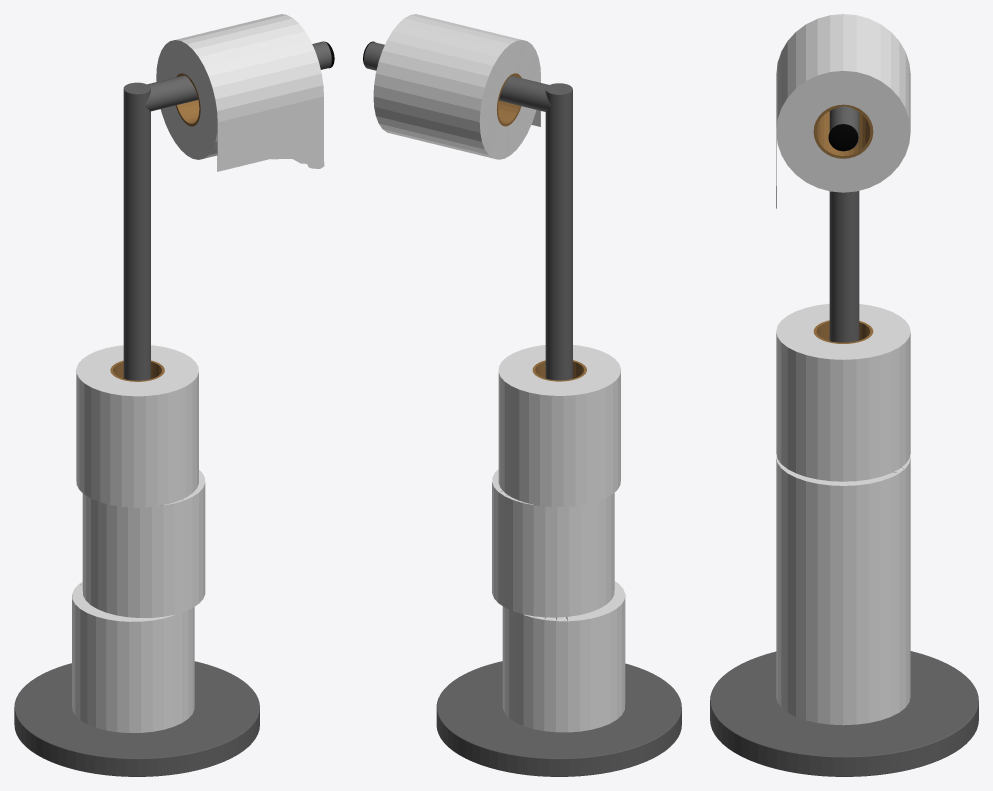
The model's file is Model_Bathroom_ToiletPaperHolder.fbx.
3 renders of one model, left to right at view 1: azimuth 30°, elevation 25°; view 2: azimuth 150°, elevation 25°; view 3: azimuth 270°, elevation 25°, orthographic. The views are drawn at different scales.
Visible parts, largest first — view 1: uploads_files_841847_toilet+paper+holder_obj; view 2: uploads_files_841847_toilet+paper+holder_obj; view 3: uploads_files_841847_toilet+paper+holder_obj.
Boxes of the visible parts, x1,y1,x2,y2 form: uploads_files_841847_toilet+paper+holder_obj: [14, 14, 334, 776]; uploads_files_841847_toilet+paper+holder_obj: [363, 14, 681, 776]; uploads_files_841847_toilet+paper+holder_obj: [710, 14, 978, 776].
Size of the model in its own units: 30.61 by 65.44 by 21.76.
